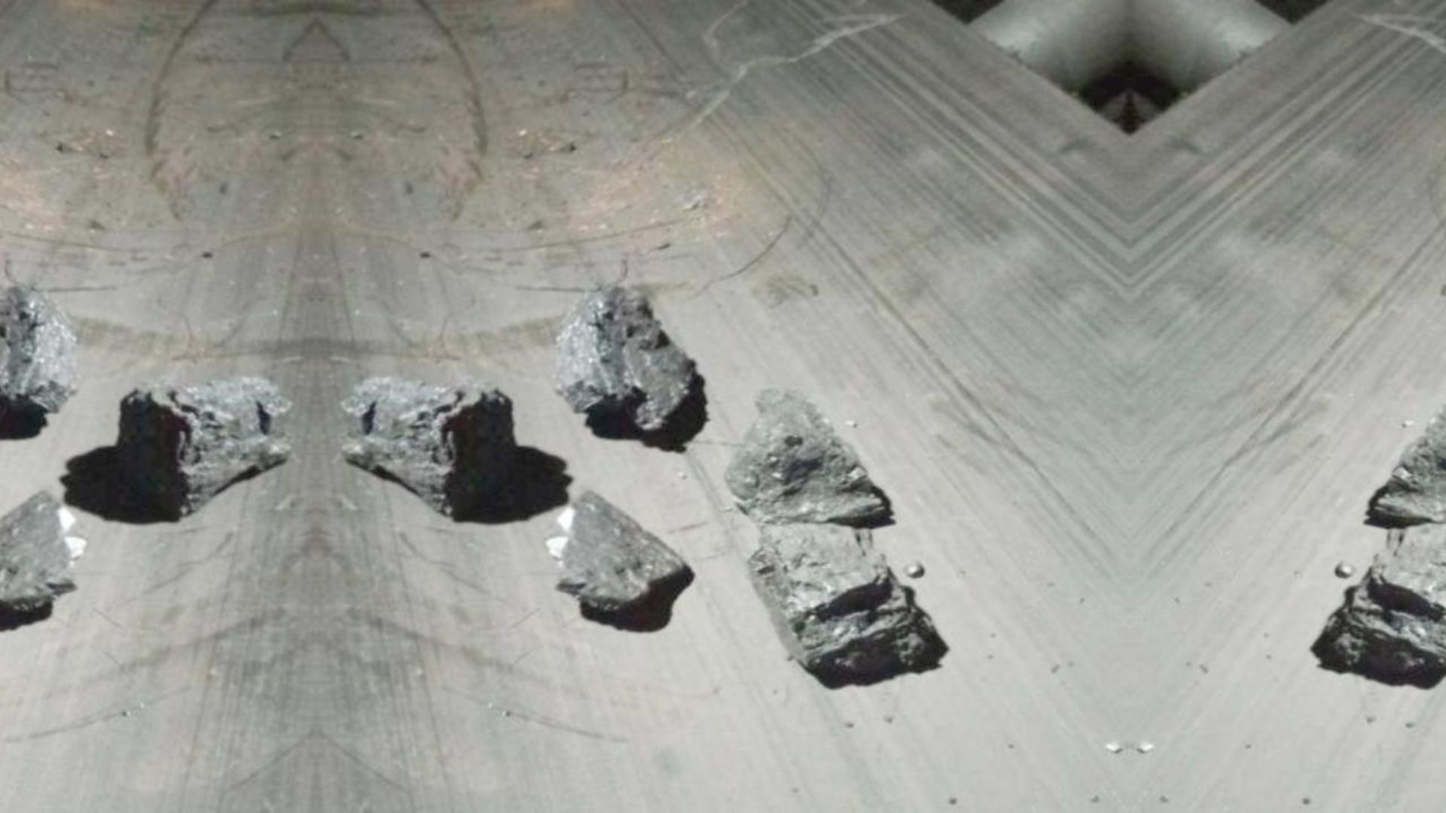rock: (748, 523, 947, 687), (115, 377, 290, 522), (342, 377, 516, 522), (555, 286, 705, 440), (725, 390, 892, 527), (1312, 523, 1445, 688), (557, 490, 692, 630), (0, 286, 77, 438), (0, 491, 75, 621), (1367, 408, 1445, 527)
